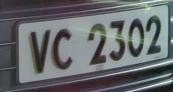0: (126, 16, 146, 60)
2: (84, 19, 110, 72), (143, 13, 164, 58)
3: (107, 17, 128, 63)
C: (51, 23, 77, 76)
V: (27, 26, 55, 78)
